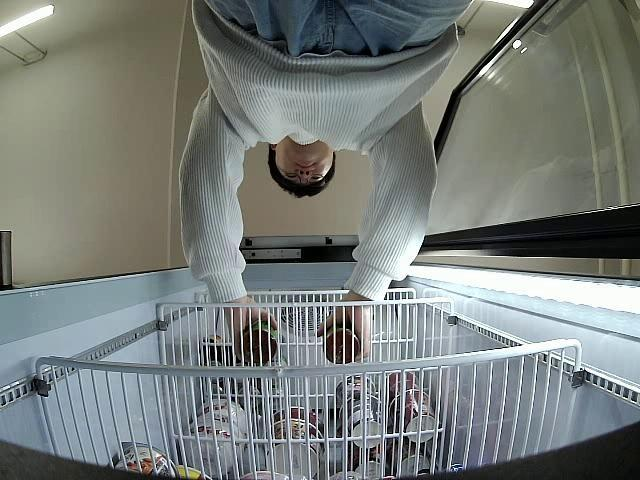19_17cha: (238, 322, 276, 365), (322, 323, 358, 364)
